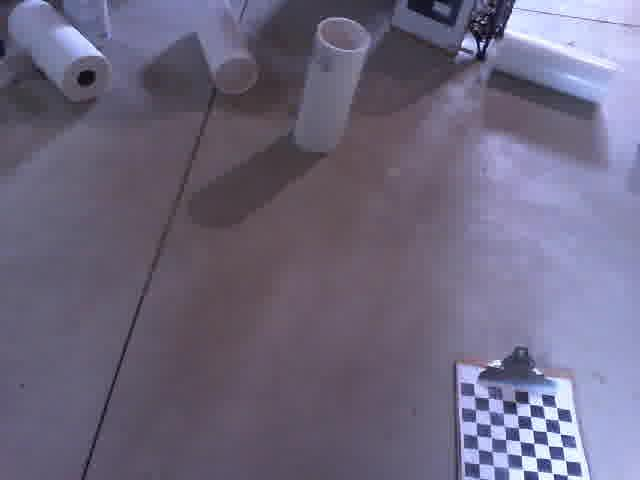coral: (289, 9, 375, 160), (184, 0, 266, 99), (55, 0, 118, 52)
